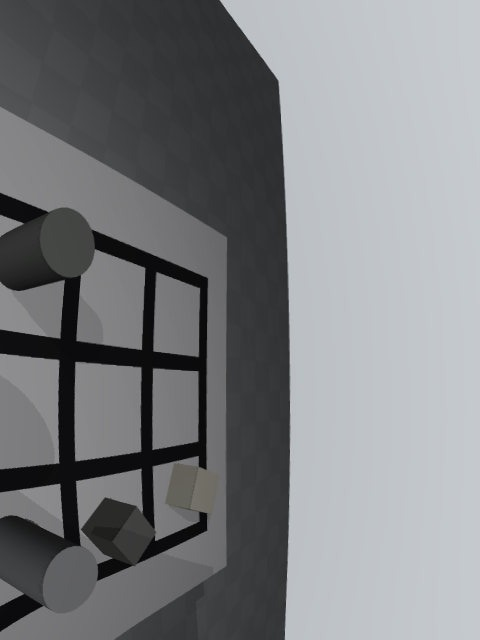can: (0, 515, 98, 614)
cube: (81, 497, 156, 566)
cylinder: (0, 207, 95, 291)
foam: (165, 463, 220, 514)
